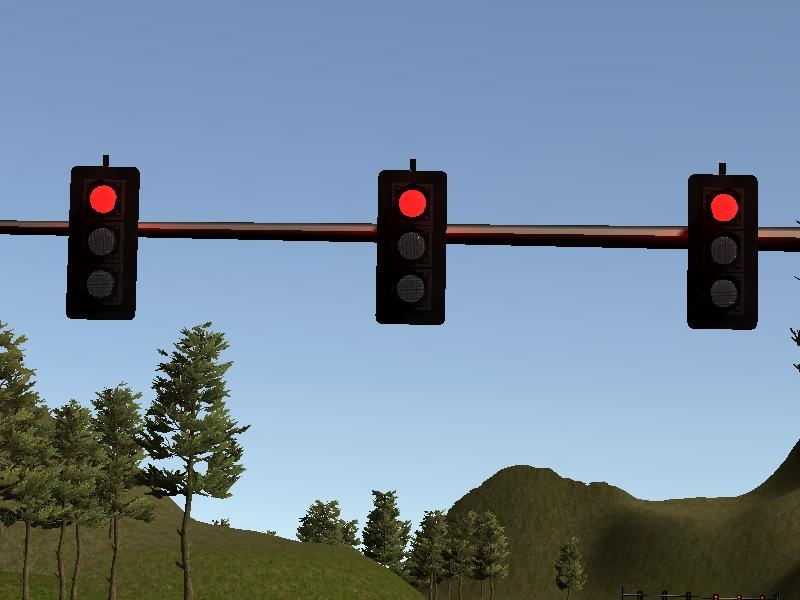red: (682, 171, 761, 334), (63, 164, 142, 321), (373, 166, 447, 326)
